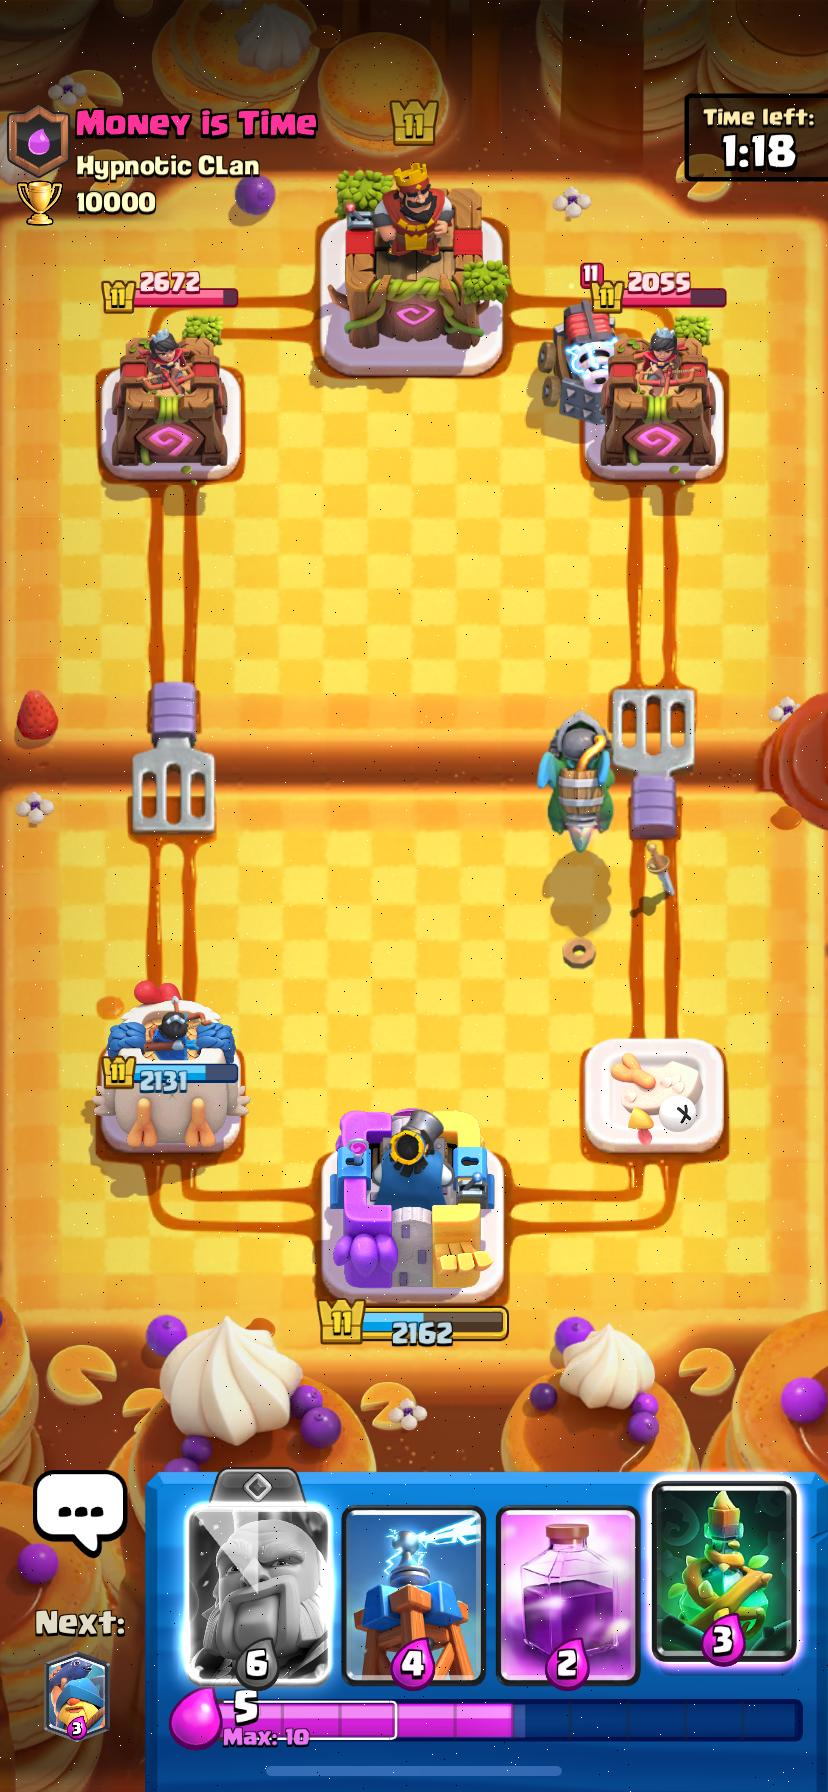EKingTower: (344, 163, 508, 352)
ESparky: (543, 301, 618, 422)
EnemyPrincessTower: (112, 329, 226, 474), (602, 328, 712, 467)
OInfernoDrag: (538, 711, 613, 851)
OwnKingTower: (321, 1109, 503, 1306)
OwnPrincessTower: (93, 983, 248, 1152)
TowerDown: (583, 1037, 725, 1157)
